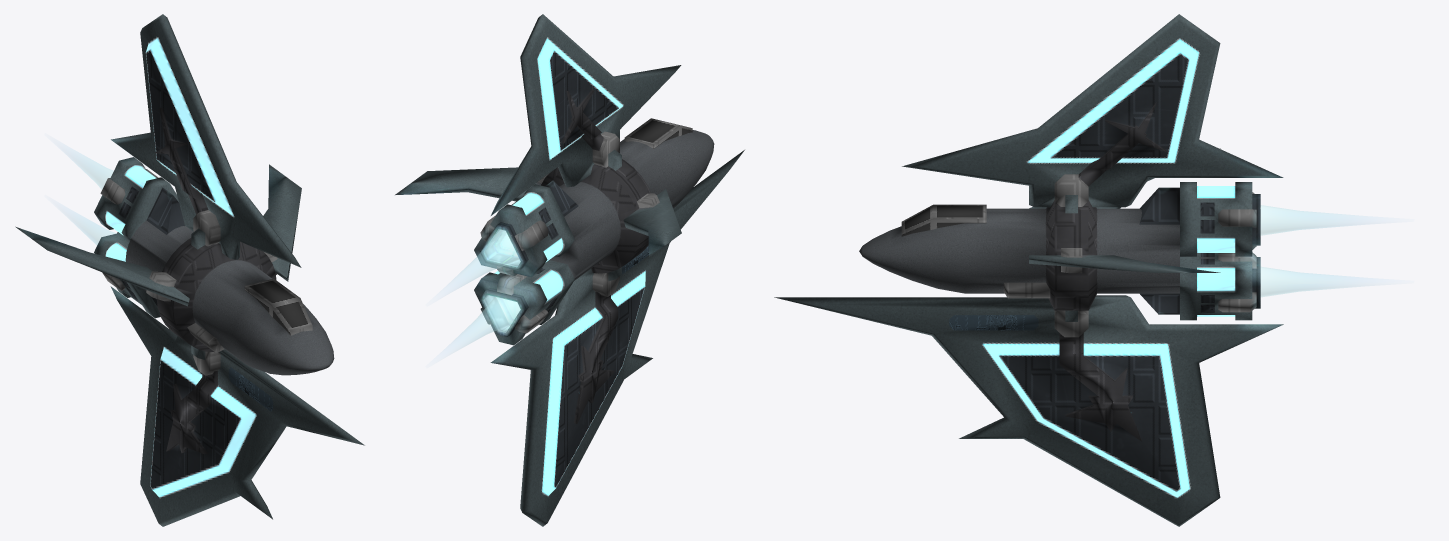
The model's file is perspicacity.gltf.
The picture shows the model from 3 angles, left to right: view 1: azimuth 30°, elevation 25°; view 2: azimuth 150°, elevation 25°; view 3: azimuth 270°, elevation 25°; orthographic projection.
Parts seen in each view (by area): view 1: base_glow, glow; view 2: base_glow, glow; view 3: base_glow, glow.
Boxes of the visible parts, x1,y1,x2,y2 form: base_glow: [15, 14, 364, 526]; glow: [70, 150, 115, 244]; base_glow: [395, 14, 744, 526]; glow: [452, 230, 520, 349]; base_glow: [774, 14, 1283, 526]; glow: [1260, 205, 1357, 297].
Size of the model in its own units: 3.8 by 7.32 by 8.55.
Materials: 2 (2 with a texture image).
